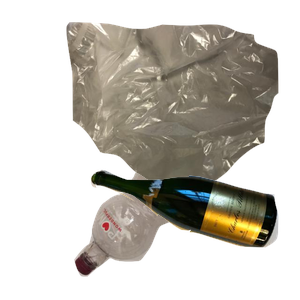glass: (88, 167, 300, 300)
metal: (86, 46, 248, 169)
plastic: (72, 142, 273, 300)
trash: (64, 20, 300, 200)
